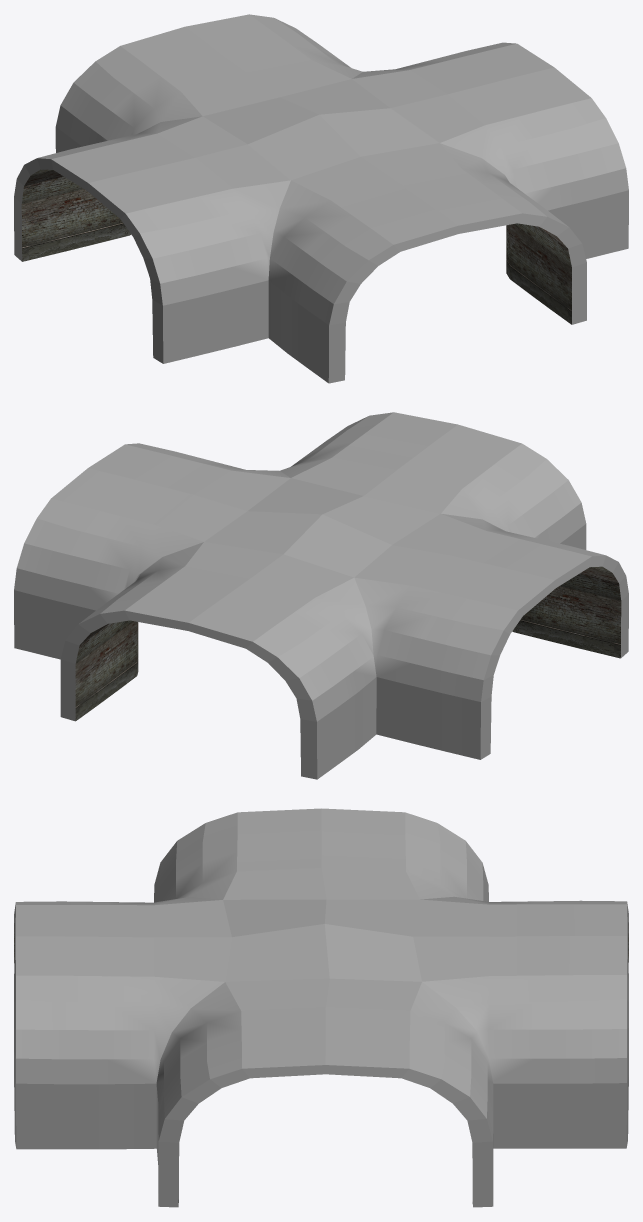
File: NewCross.fbx
The picture shows the model from 3 angles, top to bottom: view 1: azimuth 30°, elevation 25°; view 2: azimuth 150°, elevation 25°; view 3: azimuth 270°, elevation 25°; orthographic projection. The views are drawn at different scales.
Visible parts, largest first — view 1: polySurface137; view 2: polySurface137; view 3: polySurface137.
Part boxes in pixels (left/top/right/bottom): polySurface137: left=14, top=14, right=628, bottom=383; polySurface137: left=14, top=412, right=628, bottom=779; polySurface137: left=14, top=808, right=628, bottom=1207.
Size of the model in its own units: 20.23 by 5.63 by 20.38.
3 materials, 1 textured.
